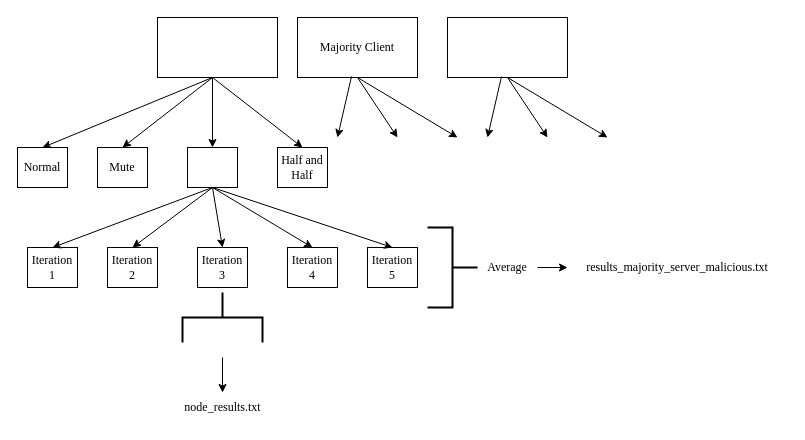
The diagram is 805 pixels wide and 440 high, and some of its shapes have lost their labels. The box of each missing label's shape, as (x1, y1, x2, y2) in pixels:
100 client requests: (181, 291, 263, 343)
Balanced: (446, 16, 568, 78)
Majority Server: (156, 16, 278, 78)
Malicious: (186, 146, 238, 188)
